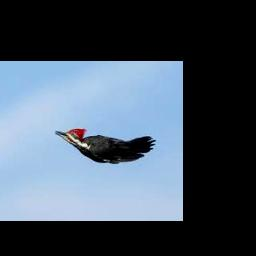Woodpecker: (56, 128, 157, 163)
